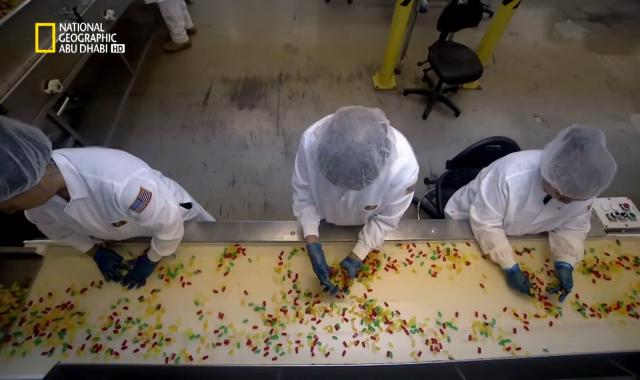hairnet: (315, 102, 392, 190), (538, 122, 616, 204), (0, 114, 62, 200)
